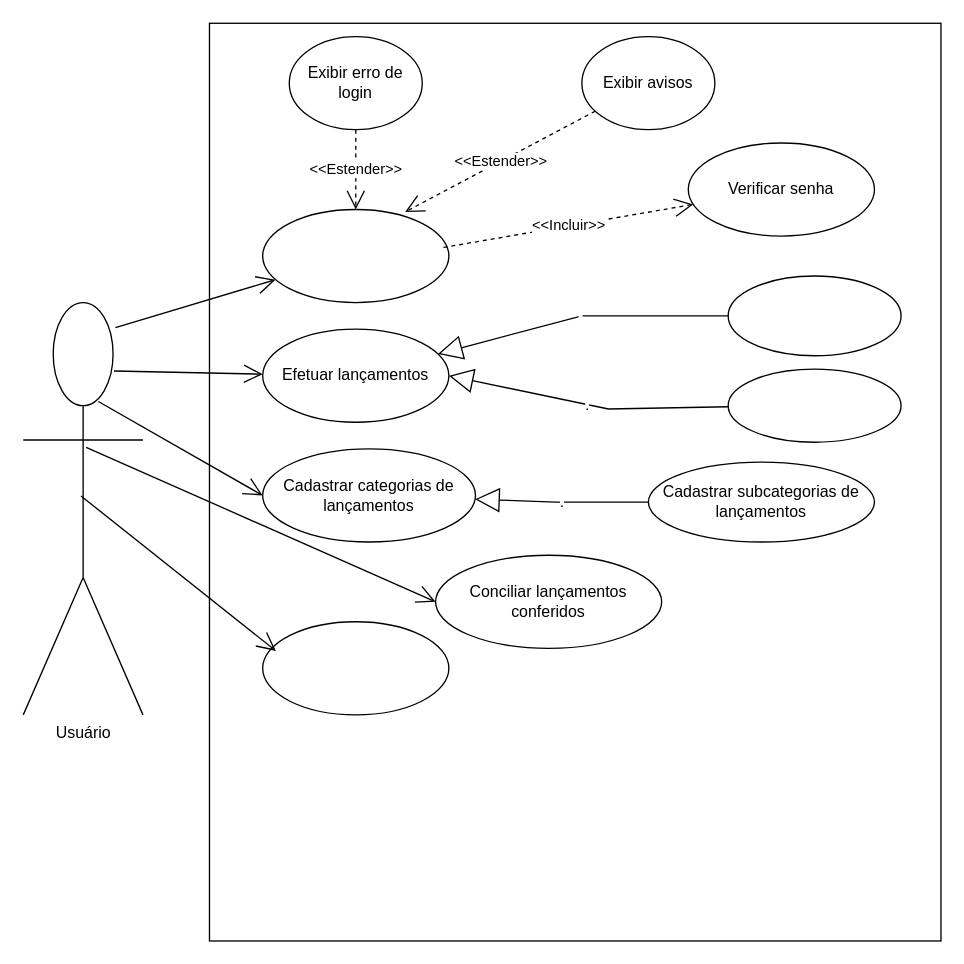
The diagram is 964 pixels wide and 964 high, and some of its shapes have lost their labels. The box of each missing label's shape, as (x1, y1, x2, y2) in pixels:
Efetuar lançamentos Crédito: (727, 368, 901, 442)
Efetuar lançamentos Débito: (727, 275, 901, 356)
Emitir relatórios: (261, 620, 449, 715)
Fazer Login: (261, 208, 449, 303)
